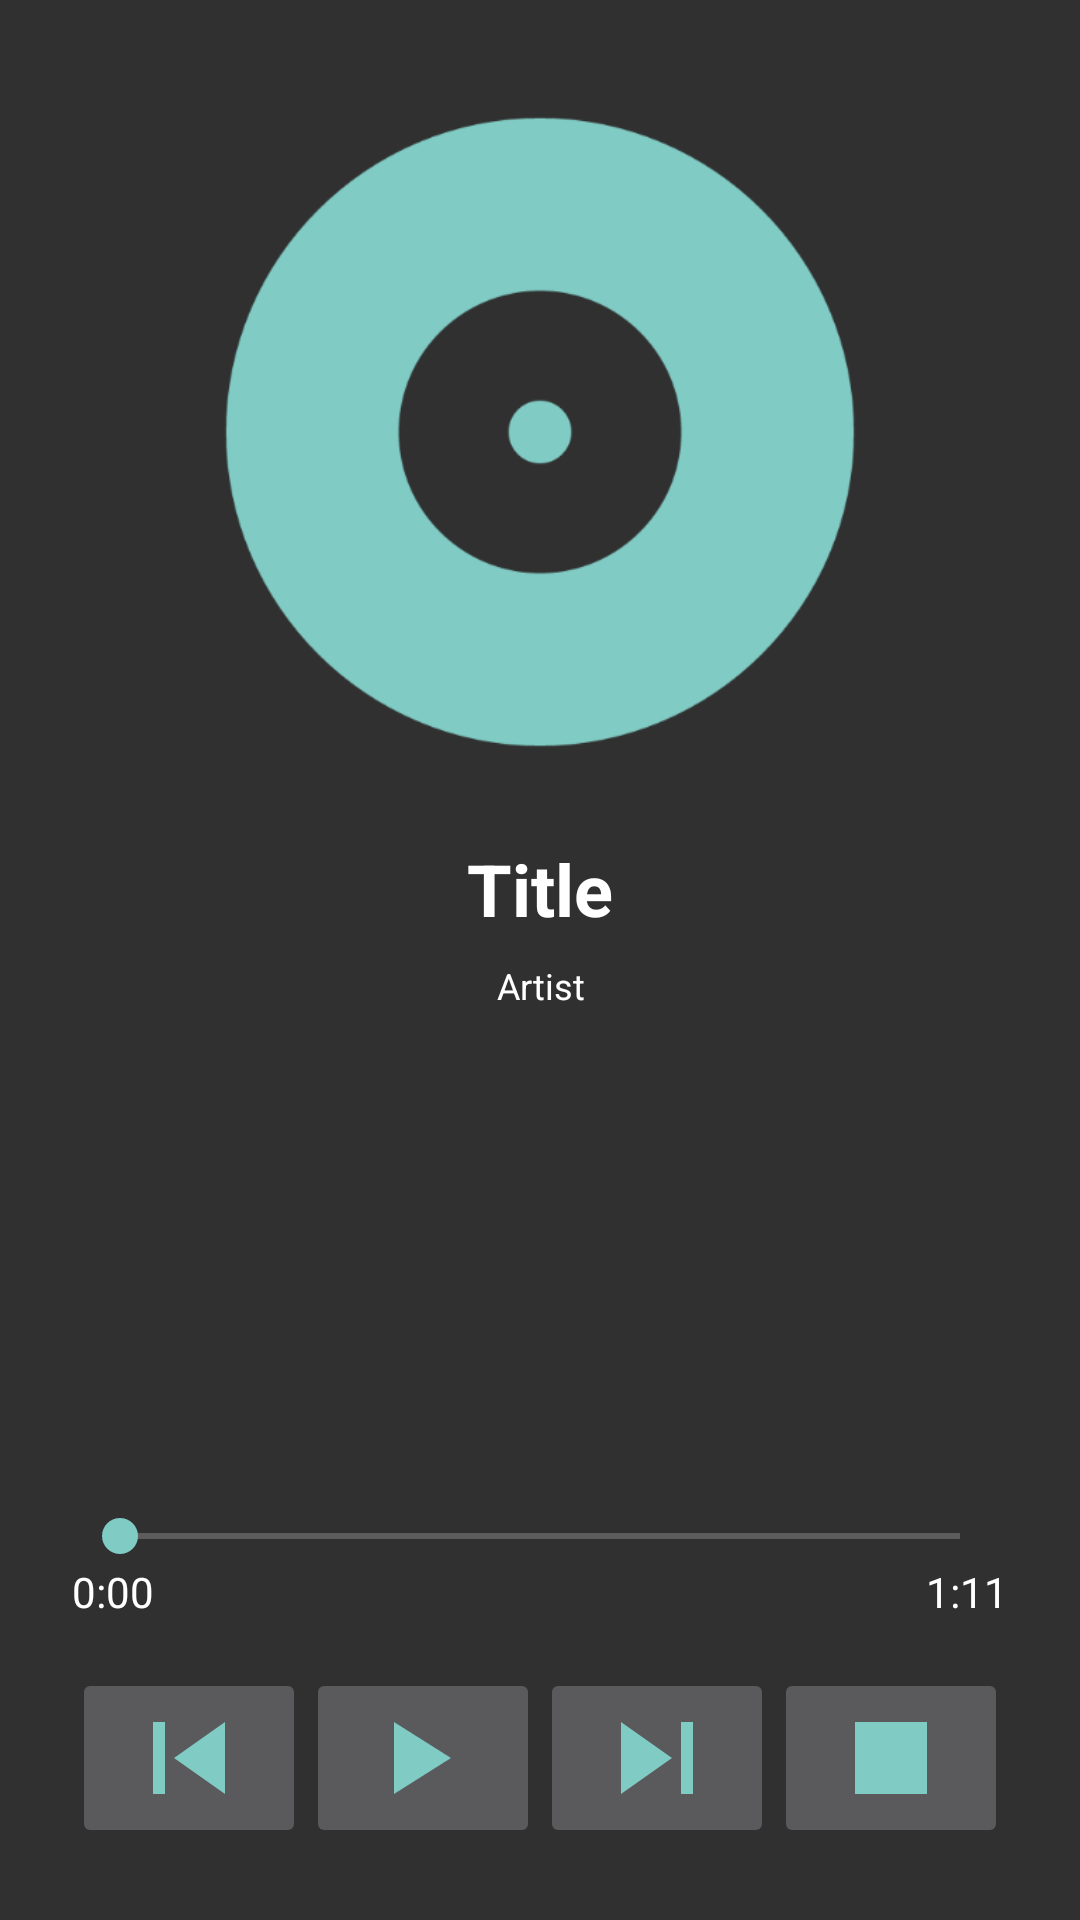

Icons on this 1080 × 1920 Android screen, each with its box as (x1, y1, x2, y2):
av play arrow: (318, 1686, 528, 1830)
av skip next: (552, 1686, 762, 1830)
av skip previous: (84, 1686, 294, 1830)
av stop: (786, 1686, 996, 1830)
